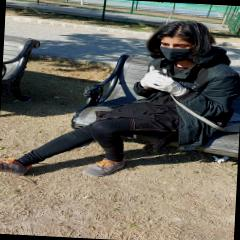gloved: (146, 74, 186, 95), (140, 65, 159, 89)
